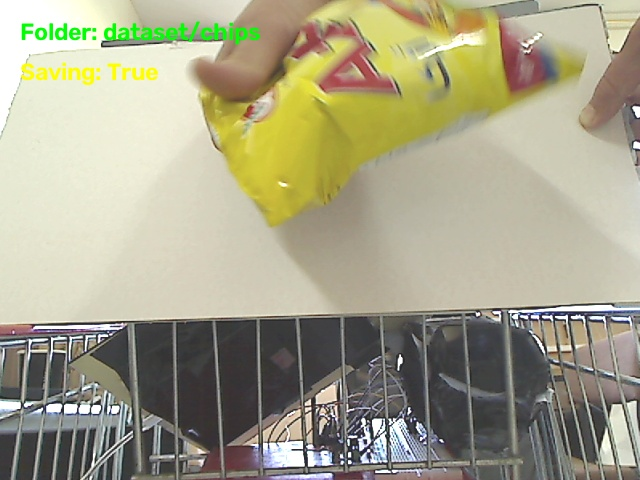chips: (201, 0, 582, 225)
